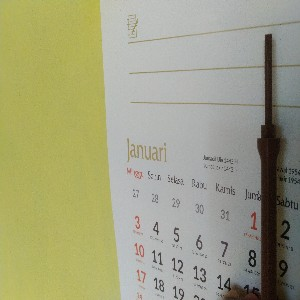obeng: (256, 32, 282, 300)
